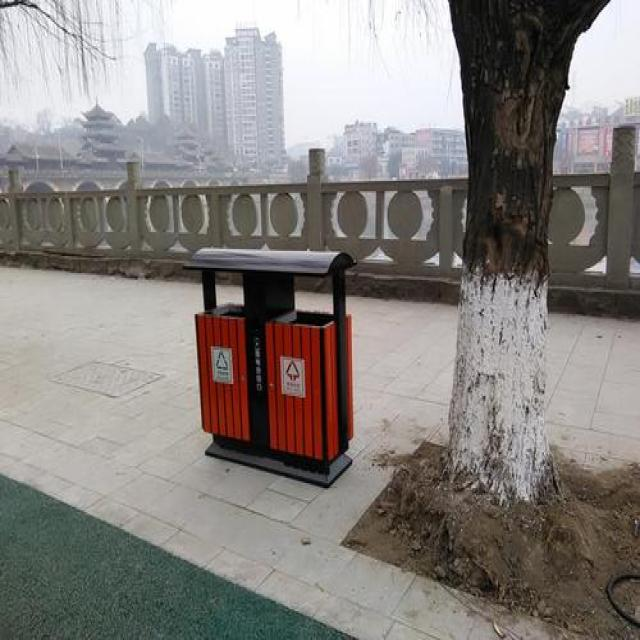garbage_bin: (181, 244, 357, 486)
